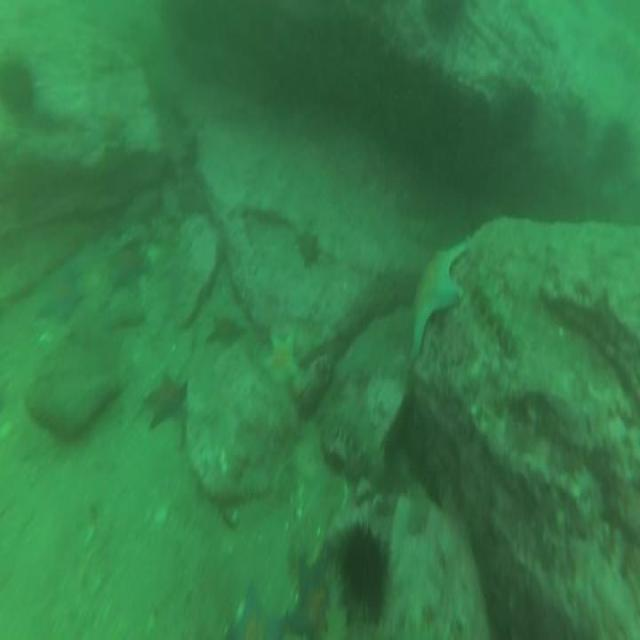echinus: (336, 517, 390, 626), (492, 72, 540, 156), (0, 52, 38, 123), (598, 116, 632, 180), (418, 0, 468, 40)
holothurian: (452, 248, 526, 368), (318, 422, 377, 493), (401, 472, 435, 539)
starfish: (409, 240, 467, 359), (286, 545, 334, 640), (220, 577, 288, 640), (100, 232, 156, 297), (257, 319, 305, 394), (143, 370, 197, 433), (34, 261, 84, 327), (203, 308, 247, 357)
